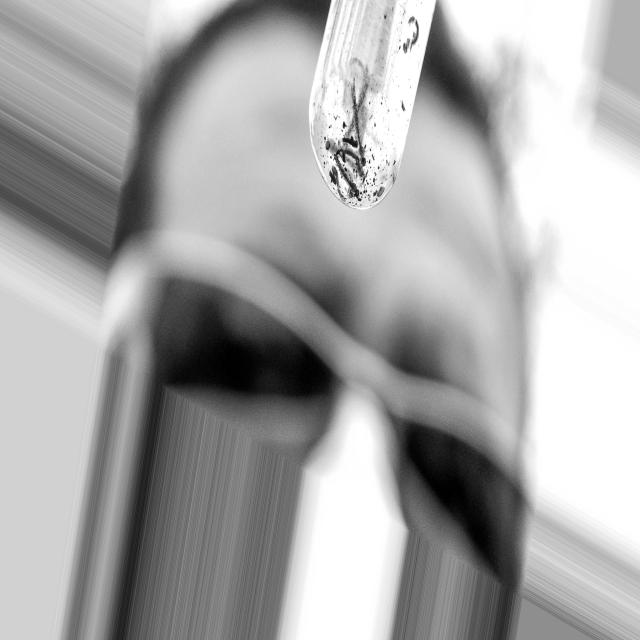larvas: (353, 84, 363, 158), (403, 20, 421, 51), (340, 150, 366, 170), (342, 172, 359, 195), (332, 168, 342, 193), (360, 83, 370, 107), (324, 139, 338, 156)
